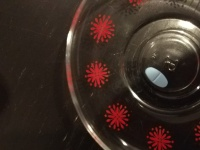Majezik: (144, 65, 169, 89)
